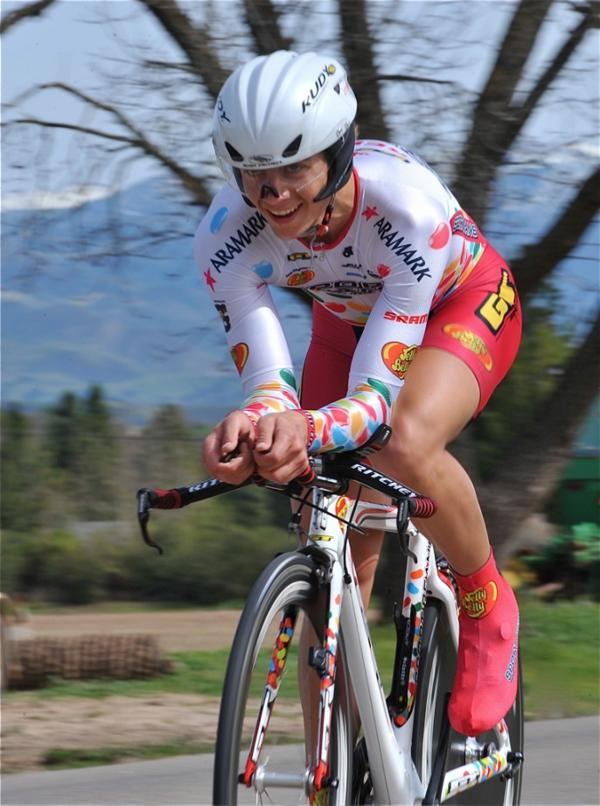person: (195, 51, 527, 800)
